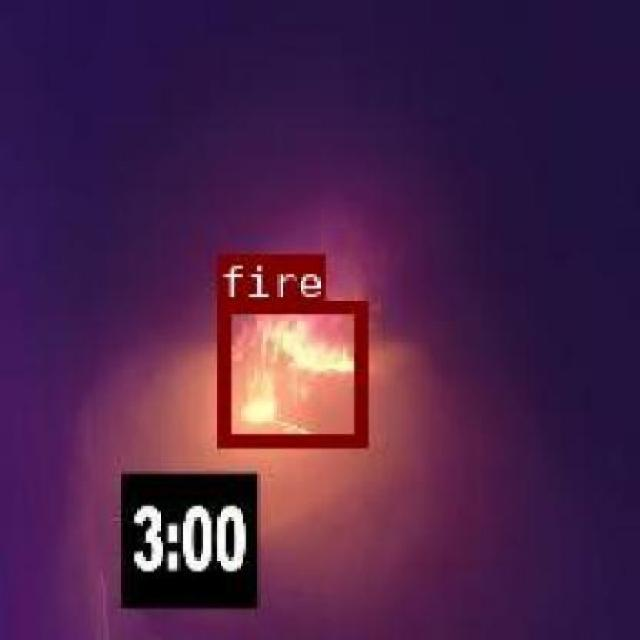Fire: (214, 300, 364, 446)
